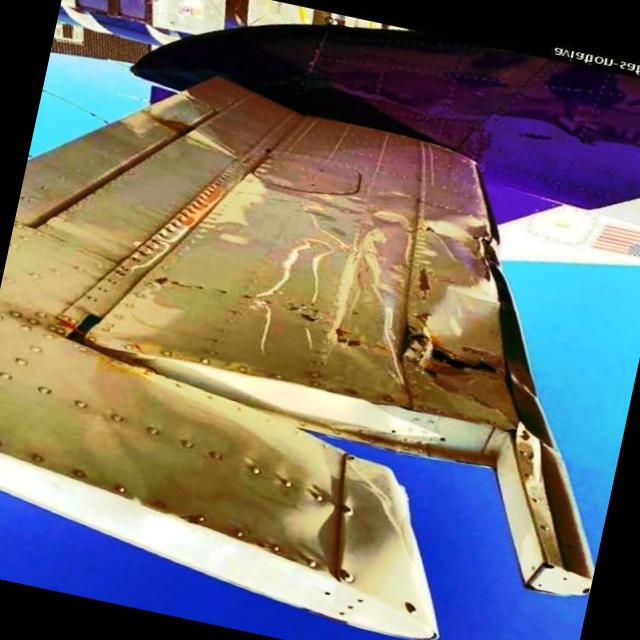dent: (428, 208, 493, 256)
